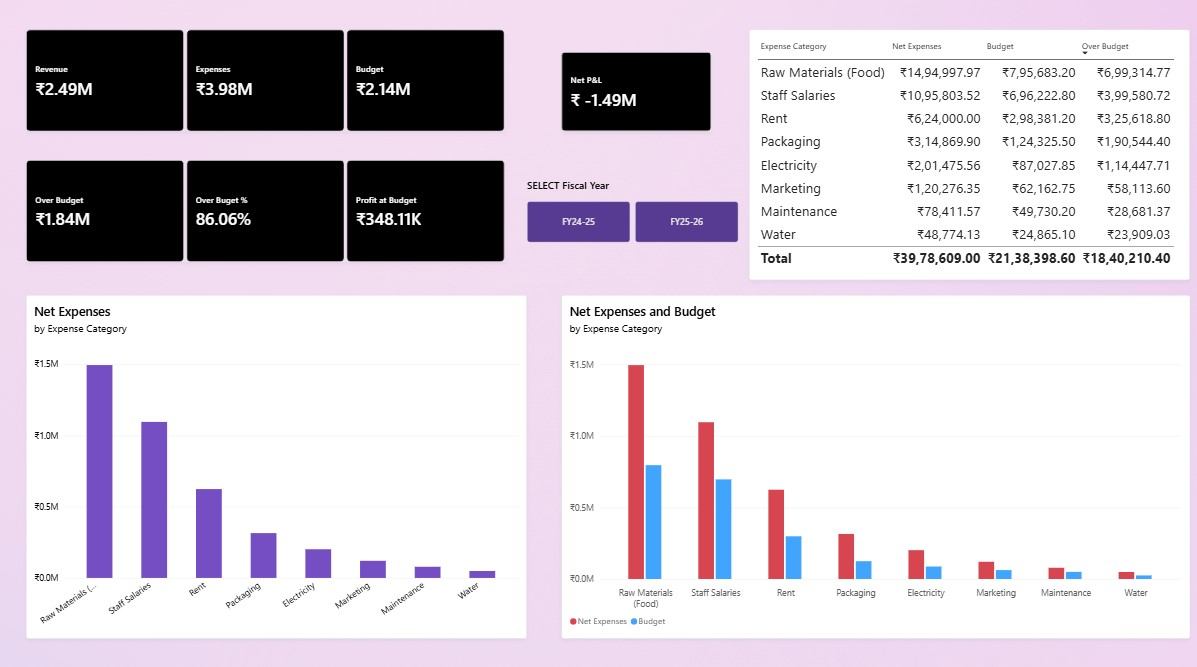

What the dashboard file says about the page in this screenshot:
{"tool":"powerbi","page":{"name":"Expense Control","canvas":[1920,1080],"ordinal":4},"visuals":[{"type":"cardVisual","fields":{"Data":["Key Measures Table.Over Budget","Key Measures Table.Over Buget %","Key Measures Table.Profit at Budget"]},"box":[47.7,262.5,763.5,162.2],"z":0},{"type":"cardVisual","fields":{"Data":["Key Measures Table.Revenue","Key Measures Table.Positive Expenses","Key Measures Table.Budget"]},"box":[47.7,54.9,763.5,162.2],"z":1000},{"type":"clusteredColumnChart","fields":{"Category":["Cost Benchmarks.Expense_Category"],"Y":["Key Measures Table.Net Expenses","Key Measures Table.Budget"]},"box":[899.5,477.2,999.7,546.4],"z":2000},{"type":"tableEx","fields":{"Values":["Cost Benchmarks.Expense Category","Key Measures Table.Positive Expenses","Key Measures Table.Budget","Key Measures Table.Over Budget"]},"box":[1197.7,54.9,684.8,398.4],"z":3000},{"type":"advancedSlicerVisual","fields":{"Values":["DimDate.FiscalYear"]},"box":[844.6,291.1,336.4,102.6],"z":4000},{"type":"clusteredColumnChart","fields":{"Category":["Cost Benchmarks.Expense Category"],"Y":["Key Measures Table.Net Expenses"]},"box":[47.7,477.2,796.9,546.4],"z":5000},{"type":"cardVisual","fields":{"Data":["Key Measures Table.Net P&L"]},"box":[899.5,90.7,238.6,126.5],"z":5001}]}

Visuals, with their boxes in screenshot pixels (x1, y1, x2, y2), scaled from the page's 1920x1080 canvas onto the 1197x667 screenshot:
cardVisual - Key Measures Table.Over Budget x Key Measures Table.Over Buget %: detection(30, 162, 506, 262)
cardVisual - Key Measures Table.Revenue x Key Measures Table.Positive Expenses: detection(30, 34, 506, 134)
clusteredColumnChart - Cost Benchmarks.Expense_Category x Key Measures Table.Net Expenses: detection(561, 295, 1184, 632)
tableEx - Cost Benchmarks.Expense Category x Key Measures Table.Positive Expenses: detection(747, 34, 1174, 280)
advancedSlicerVisual - DimDate.FiscalYear: detection(527, 180, 736, 243)
clusteredColumnChart - Cost Benchmarks.Expense Category x Key Measures Table.Net Expenses: detection(30, 295, 527, 632)
cardVisual - Key Measures Table.Net P&L: detection(561, 56, 710, 134)
